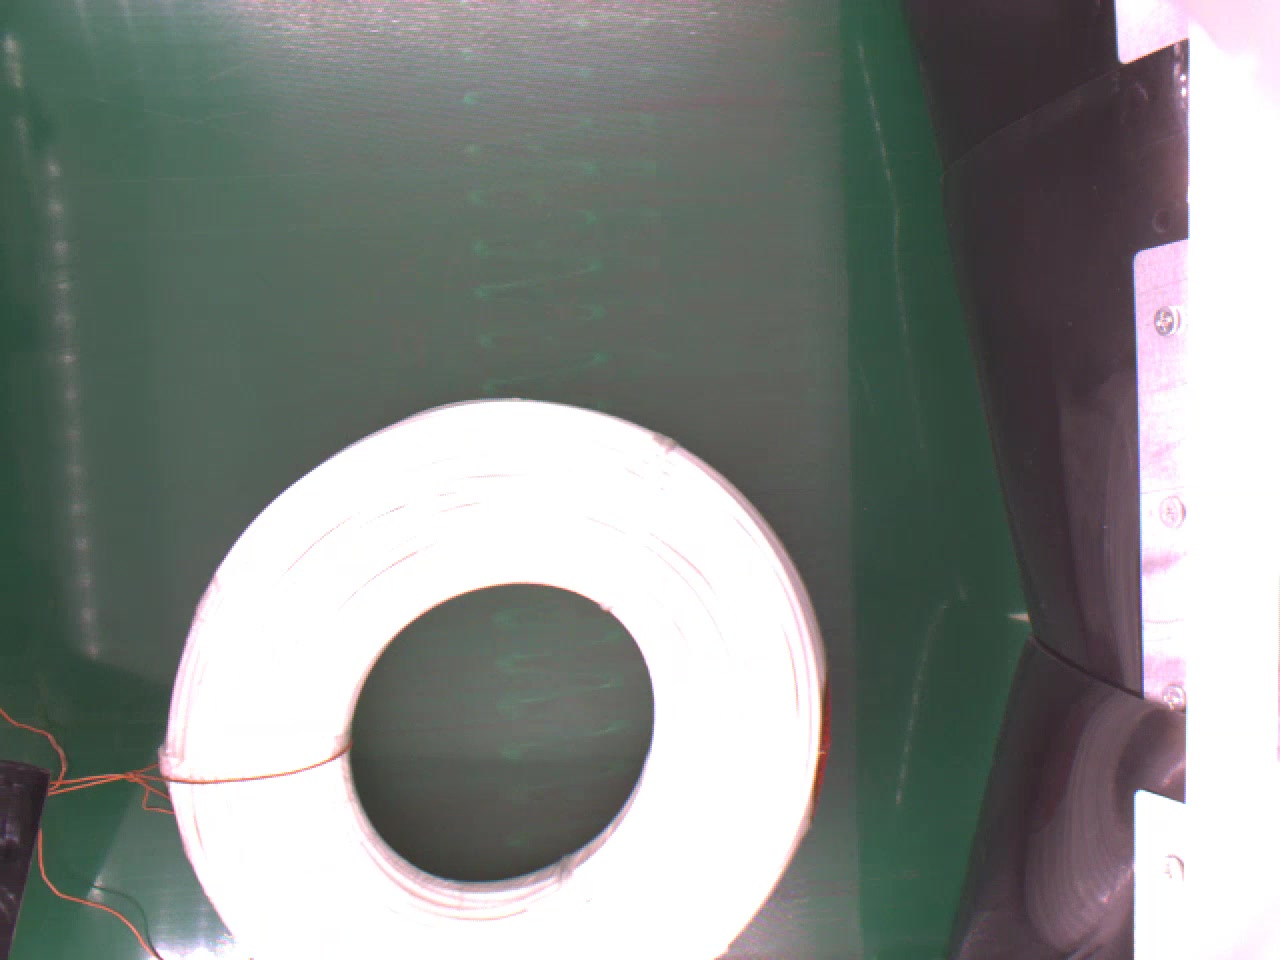white: (160, 394, 833, 955)
